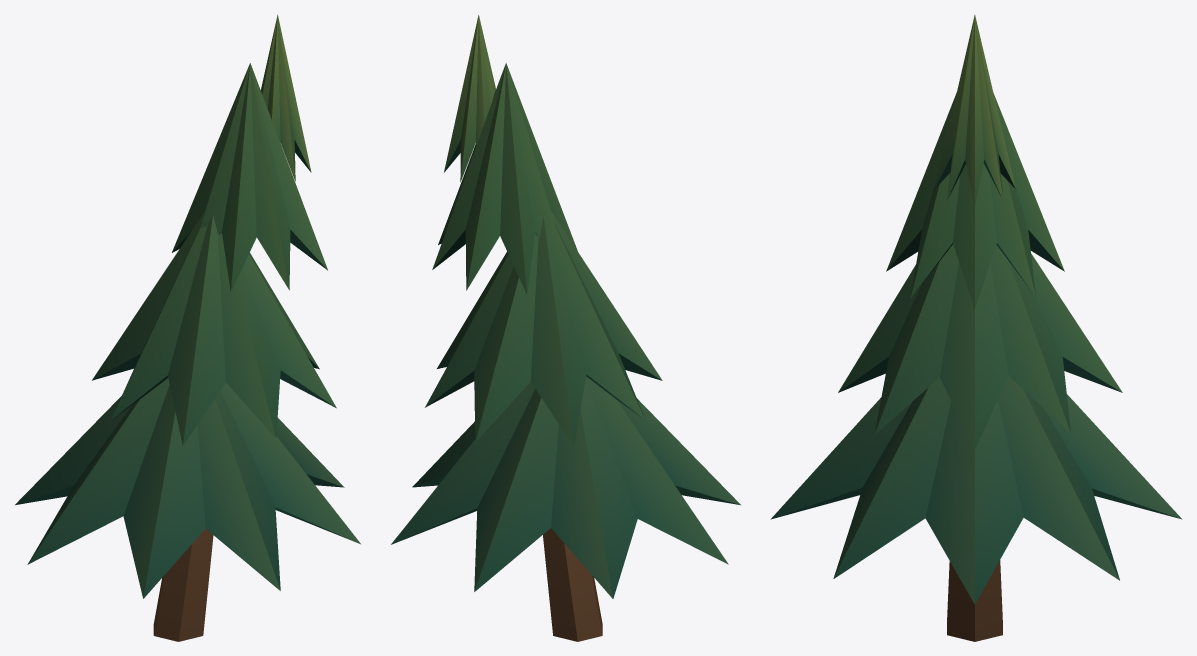
3 renders of one model, left to right at view 1: azimuth 30°, elevation 25°; view 2: azimuth 150°, elevation 25°; view 3: azimuth 270°, elevation 25°, orthographic. The views are drawn at different scales.
Visible parts, largest first — view 1: prop_pine_coastal; view 2: prop_pine_coastal; view 3: prop_pine_coastal.
Boxes of the visible parts, x1,y1,x2,y2 form: prop_pine_coastal: (15,14,360,641); prop_pine_coastal: (391,15,740,641); prop_pine_coastal: (770,14,1182,641).
Bounding box in the file's own units: 3.09 × 5.5 × 3.07.
